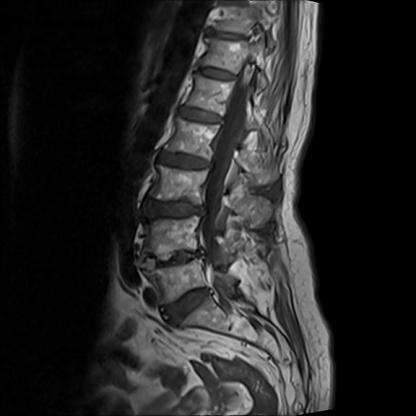Annular Tearrotation: (143, 248, 205, 275), (164, 291, 213, 320)
Disc Bulgerotation: (143, 248, 205, 275), (163, 291, 213, 320), (158, 151, 212, 173), (177, 107, 226, 126)
